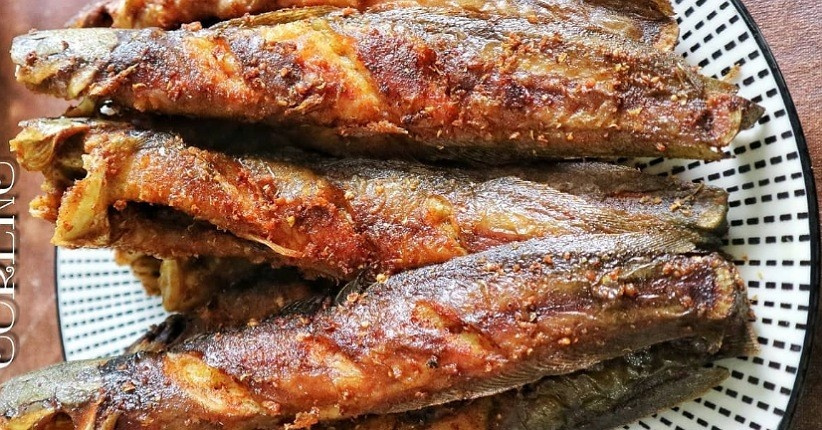pecel_lele: (11, 101, 739, 261), (6, 6, 744, 162)
